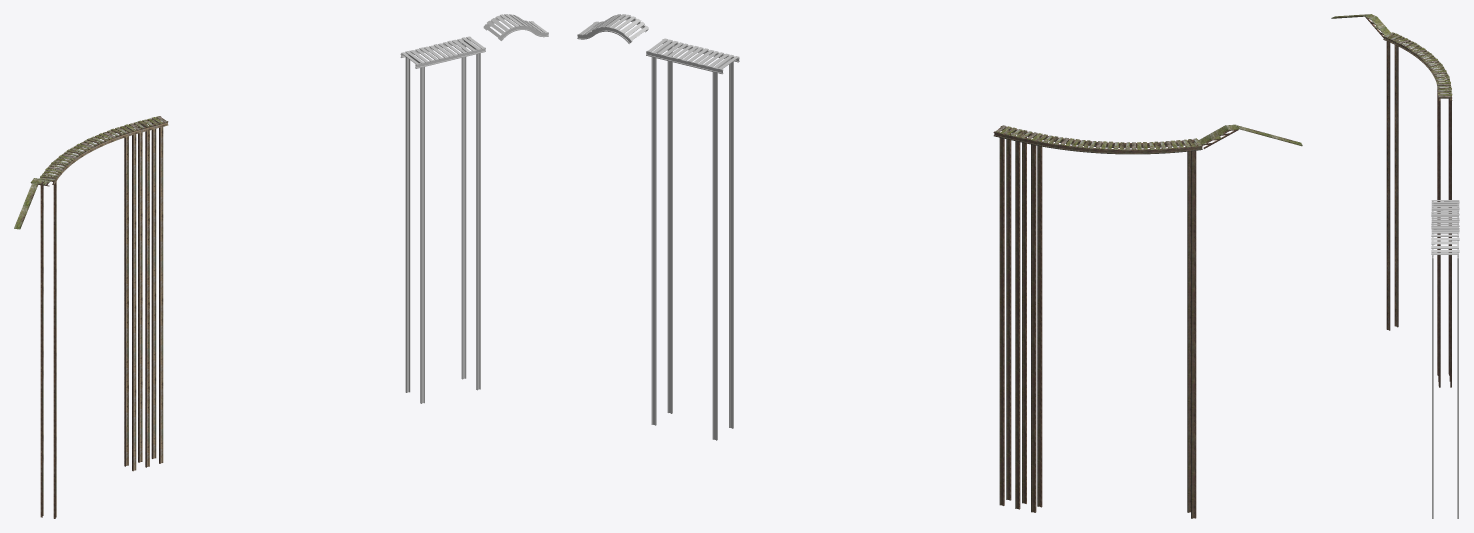
3 renders of one model, left to right at view 1: azimuth 30°, elevation 25°; view 2: azimuth 150°, elevation 25°; view 3: azimuth 270°, elevation 25°, orthographic. The views are drawn at different scales.
Parts seen in each view (by area): view 1: ramp.010, ramp.008, ramp.001; view 2: ramp.010, ramp.008, ramp.001; view 3: ramp.010, ramp.008, ramp.001, ramp.011, ramp.003.
Part boxes in pixels (x1=…): ramp.010: x1=39, y1=116, x2=168, y2=518; ramp.008: x1=400, y1=36, x2=485, y2=403; ramp.001: x1=483, y1=14, x2=535, y2=40; ramp.010: x1=993, y1=125, x2=1202, y2=518; ramp.008: x1=646, y1=38, x2=739, y2=440; ramp.001: x1=591, y1=14, x2=648, y2=43; ramp.010: x1=1383, y1=32, x2=1452, y2=387; ramp.008: x1=1431, y1=200, x2=1459, y2=518; ramp.001: x1=1431, y1=228, x2=1459, y2=245; ramp.011: x1=1365, y1=14, x2=1392, y2=37; ramp.003: x1=1431, y1=245, x2=1459, y2=258.
Size of the model in its own units: 4233 by 2423 by 929.
